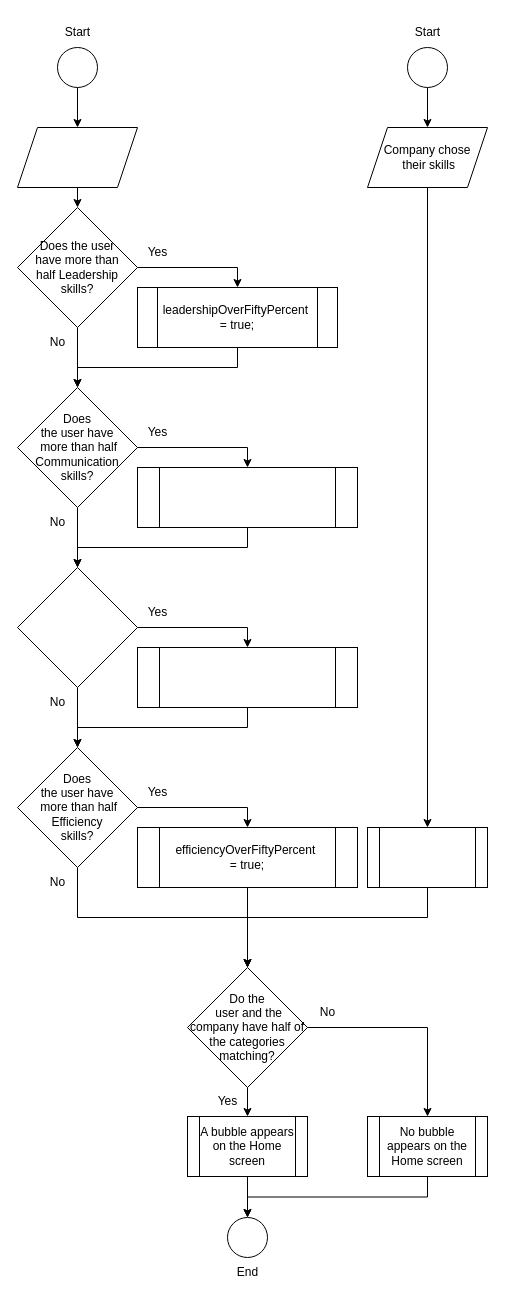
Image size: 505x1304. Some labels were removed from this diagram. Here are the shapes that lost their labels. From the top down, the centre of each, then its label:
At (x=77, y=157): "User chose their skills".
At (x=247, y=497): "communicationOverFiftyPercent = true;".
At (x=77, y=627): "Does the user have more than half Agile skills?".
At (x=247, y=677): "agileOverFiftyPercent = true;".
At (x=427, y=857): "New job offer posted".
